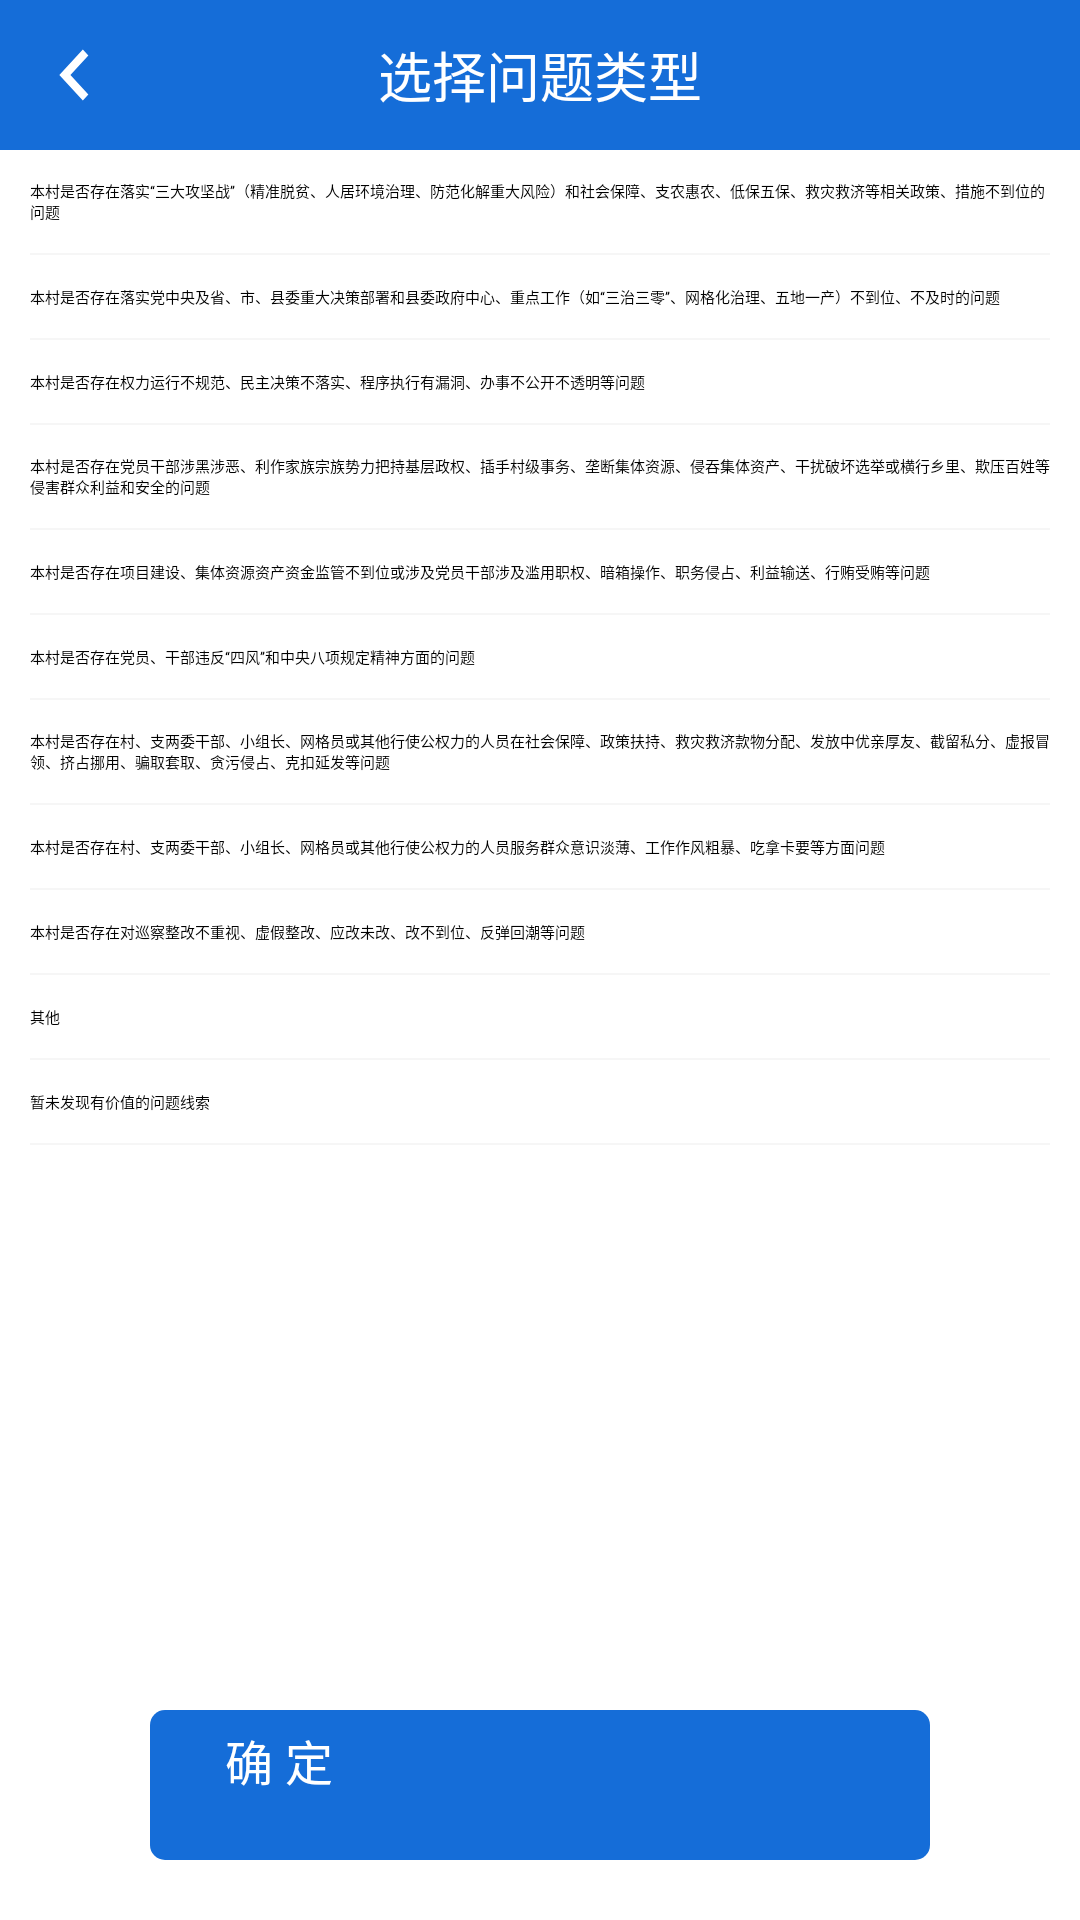

Named icons in this screenshot (1080 × 1920) and their centers, [x,y]:
left: [74,75]
